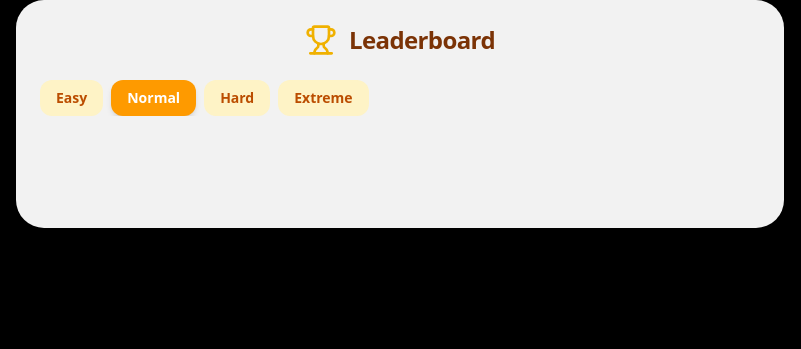
Test: RankingDisplay › shows empty state when no rankings
This screenshot has width=801, height=349.
Click the button "Hard" at (237, 98), box [204,80,270,116]
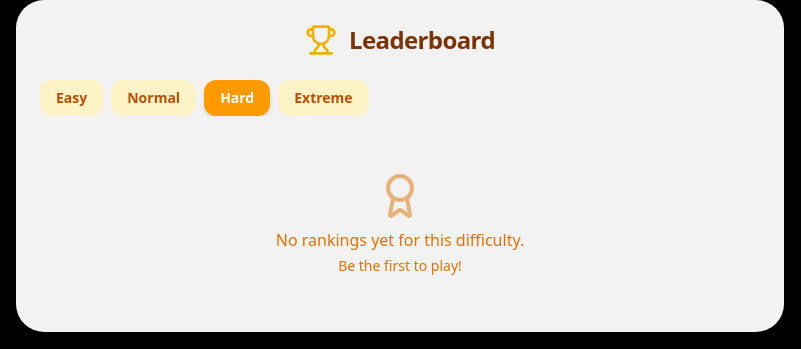
Expected: the text "No rankings yet for this difficulty." is shown, [276,229,524,251]
Expected: the text "Be the first to play!" is shown, [338,256,462,275]
